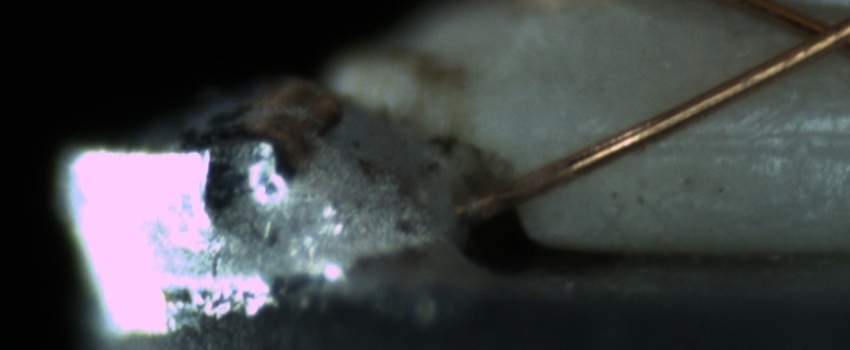CL: (776, 2, 850, 67)
DL: (634, 108, 849, 169)
